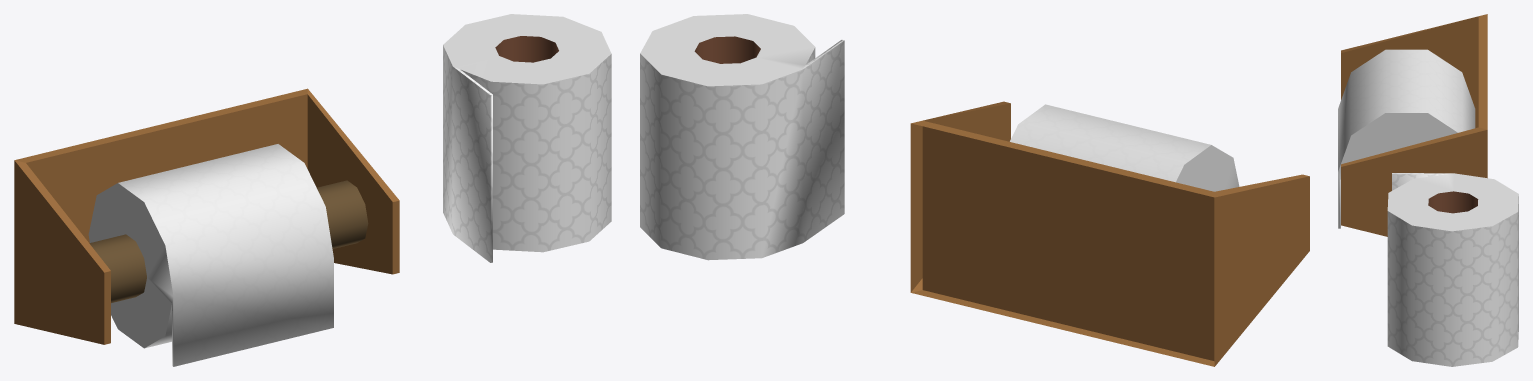
File: PapelHigienico.fbx
3 renders of one model, left to right at view 1: azimuth 30°, elevation 25°; view 2: azimuth 150°, elevation 25°; view 3: azimuth 270°, elevation 25°, orthographic. The views are drawn at different scales.
Visible parts, largest first — view 1: sujetadorpapel.001, papel, sujetadorpapel; view 2: sujetadorpapel, papel, sujetadorpapel.001; view 3: papel, sujetadorpapel, sujetadorpapel.001.
Boxes of the visible parts, x1,y1,x2,y2 form: sujetadorpapel.001: (88,144,368,366); papel: (443,14,611,262); sujetadorpapel: (14,88,399,344); sujetadorpapel: (910,101,1309,366); papel: (640,14,844,260); sujetadorpapel.001: (1010,104,1239,191); papel: (1387,173,1518,366); sujetadorpapel: (1341,14,1487,236); sujetadorpapel.001: (1338,49,1475,228).
Size of the model in its own units: 29.53 by 8.49 by 10.11.
